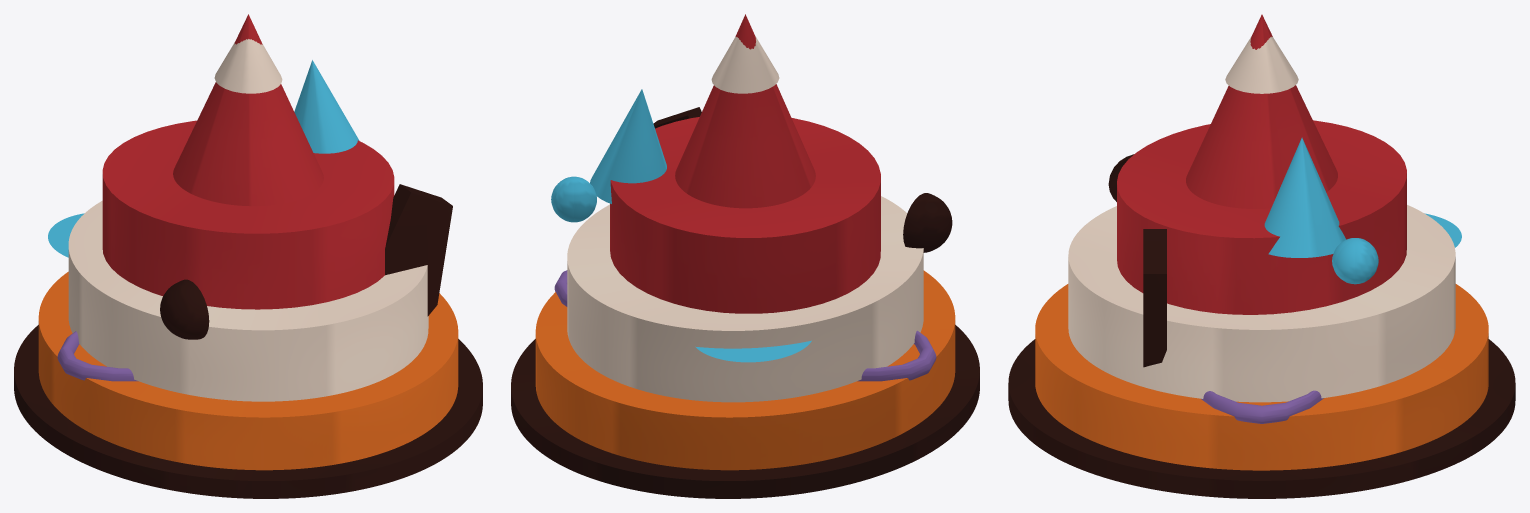
The model's file is 0635_地貌图鉴_希利尔湖.glb.
3 views of the same model, side by side, from view 1: azimuth 30°, elevation 25°; view 2: azimuth 150°, elevation 25°; view 3: azimuth 270°, elevation 25° (orthographic).
Parts seen in each view (by area): view 1: card_0635; view 2: card_0635; view 3: card_0635.
Part boxes in pixels (<box>): card_0635: <box>14,14,482,498</box>; card_0635: <box>511,14,979,498</box>; card_0635: <box>1008,14,1515,498</box>.
Size of the model in its own units: 1.09 by 1 by 1.19.
